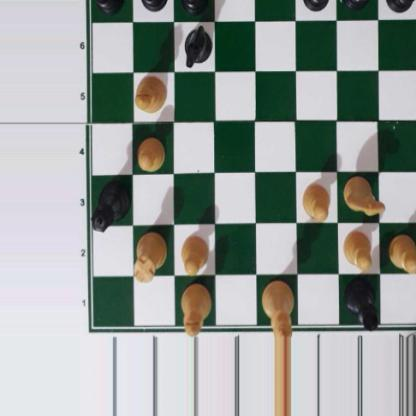black-bishop: (343, 277, 378, 333)
black-knight: (182, 23, 213, 68)
black-pawn: (384, 0, 416, 13), (94, 0, 123, 12), (181, 0, 207, 13), (140, 0, 166, 12), (302, 0, 330, 9), (342, 0, 371, 8)
black-queen: (92, 179, 131, 235)
white-bishop: (181, 280, 211, 336), (134, 74, 168, 115)
white-king: (261, 279, 294, 338)
white-knight: (342, 175, 385, 216)
white-pawn: (341, 227, 372, 271), (180, 233, 209, 275), (301, 181, 330, 221), (135, 136, 166, 173), (388, 233, 416, 273)
white-rook: (131, 227, 168, 283)
